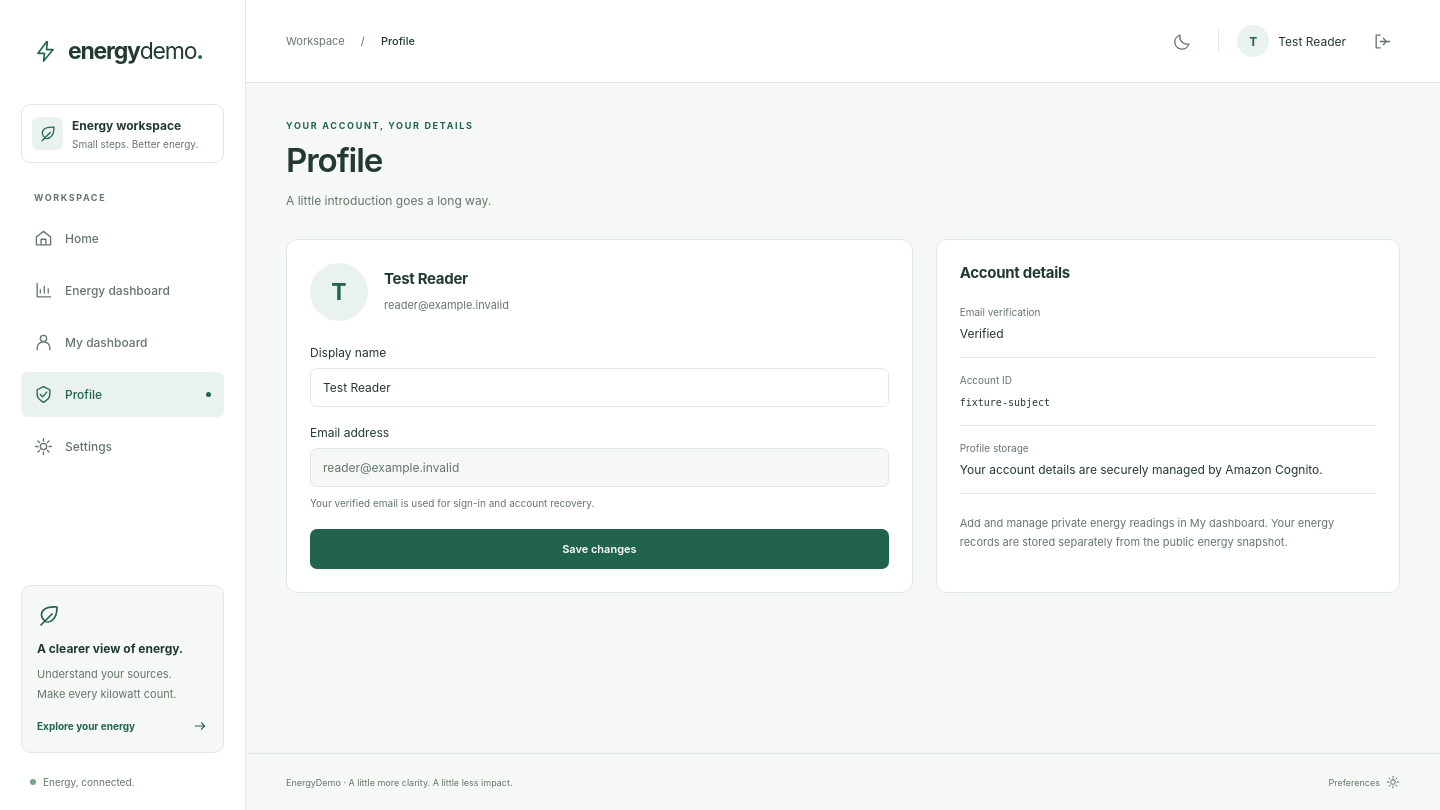
Test: Cognito forms › clears local session state even when all-device sign-out fails
Click the button named "Sign out" at (1382, 41), box left=1364, top=23, right=1400, bottom=59
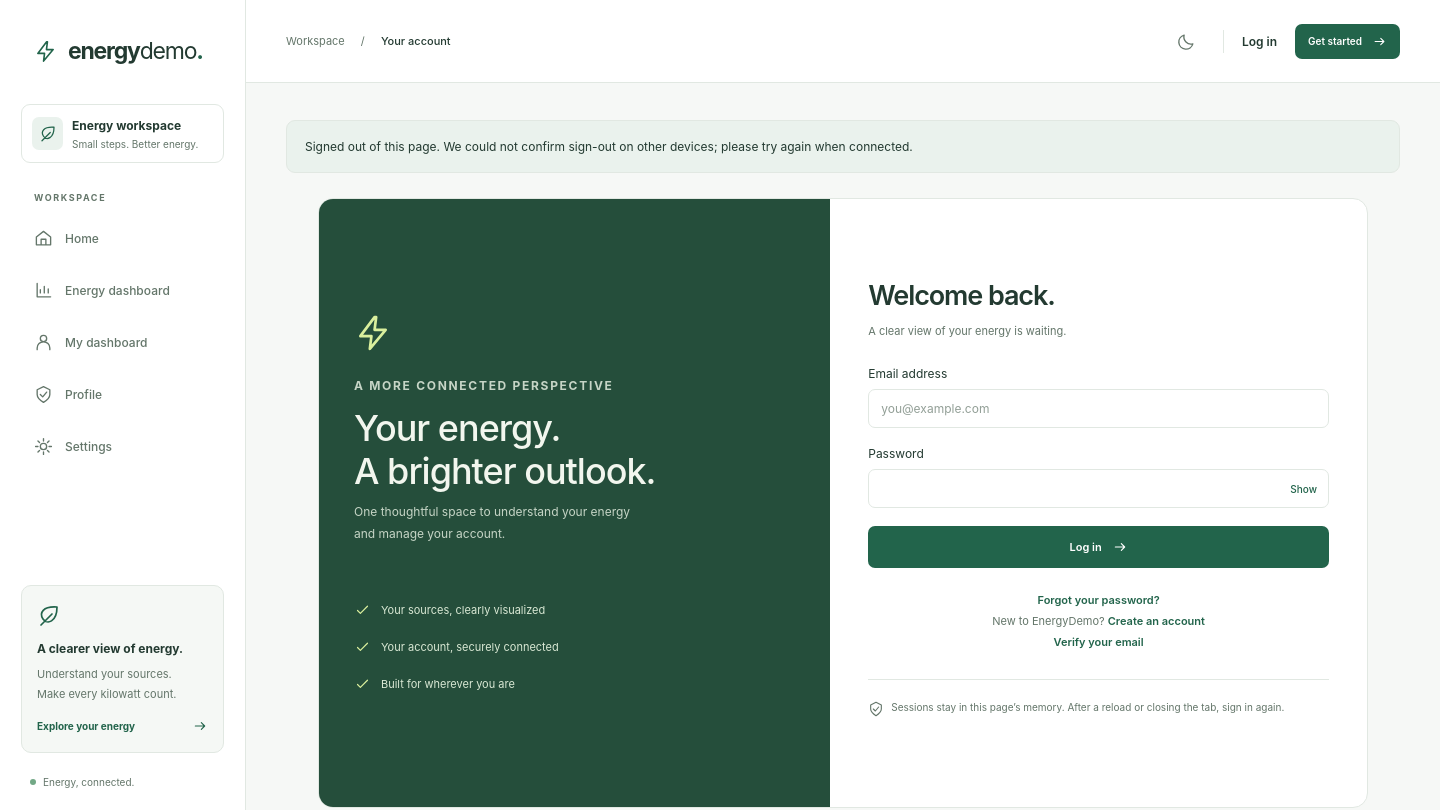
Expected: the text "could not confirm sign-out on other devices" is shown, left=305, top=139, right=913, bottom=154
Expected: the text "fixture-subject" is gone
